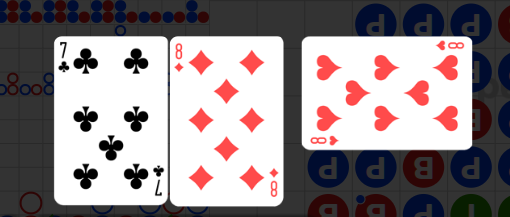7C: (57, 40, 71, 75)
8D: (268, 166, 280, 198)
8H: (434, 40, 465, 53)
